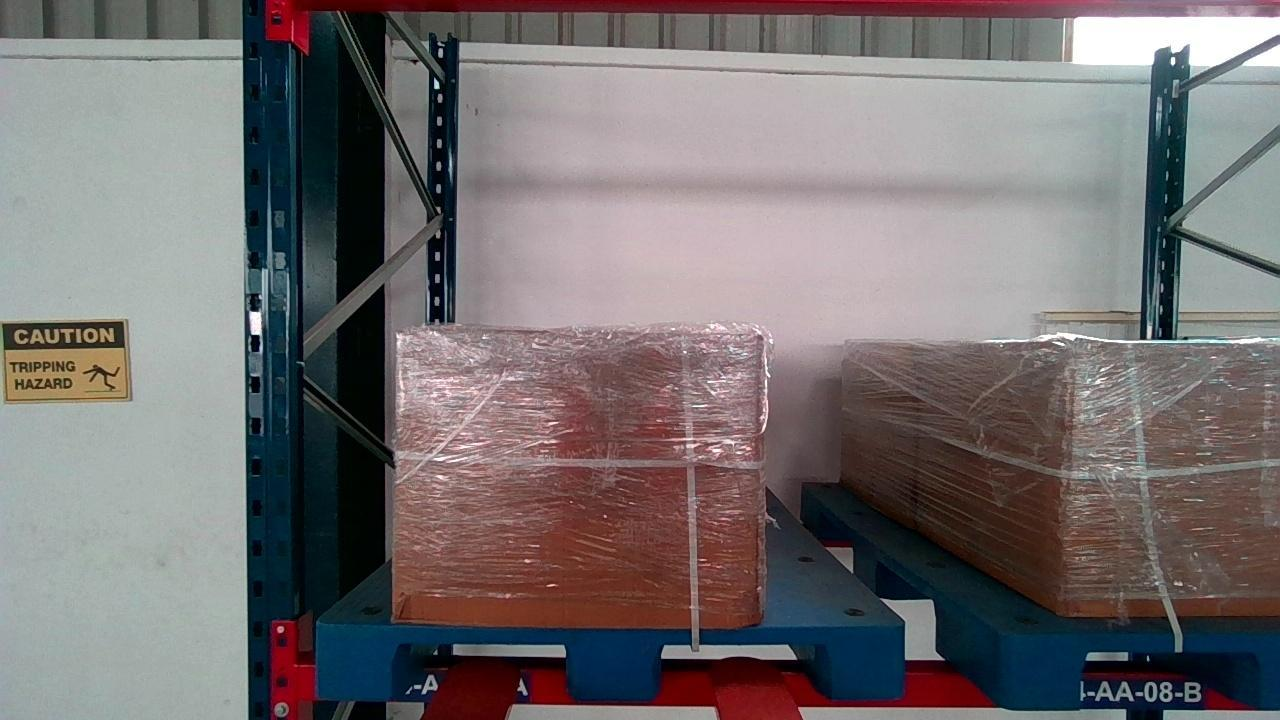h_rack: (296, 665, 1238, 709)
small_pallet: (317, 626, 901, 700), (1012, 628, 1276, 709)
